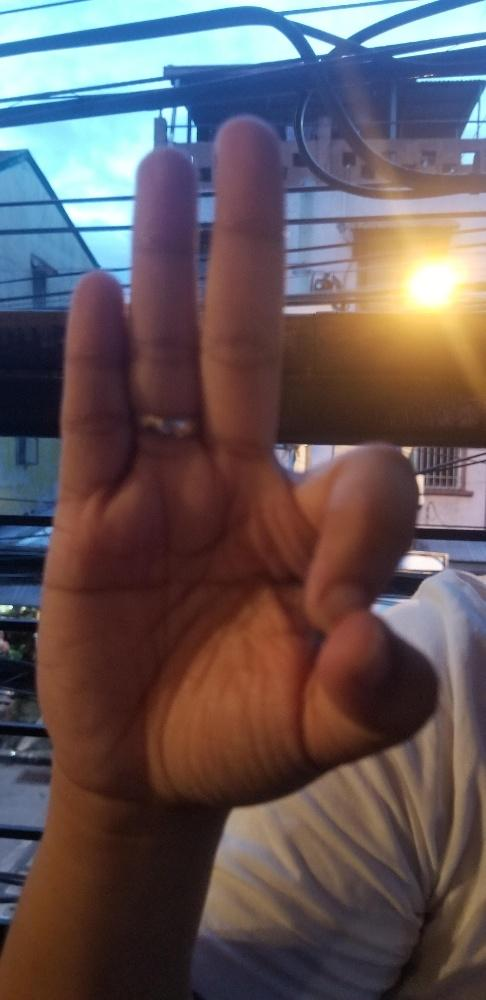f: (35, 110, 441, 808)
